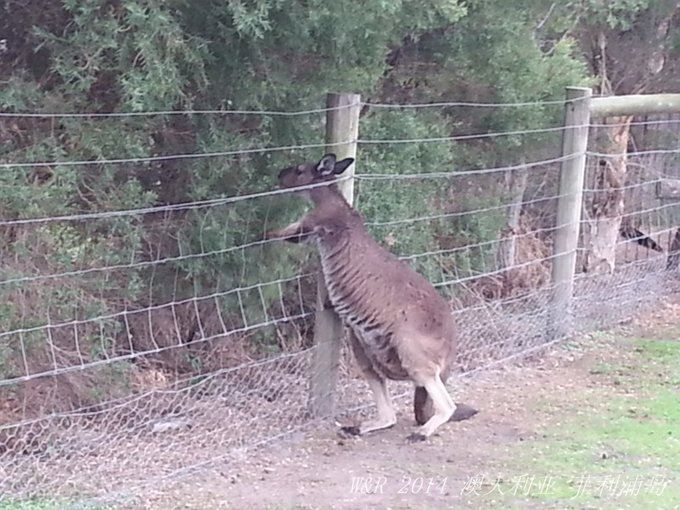kangaroo: (252, 154, 483, 443)
